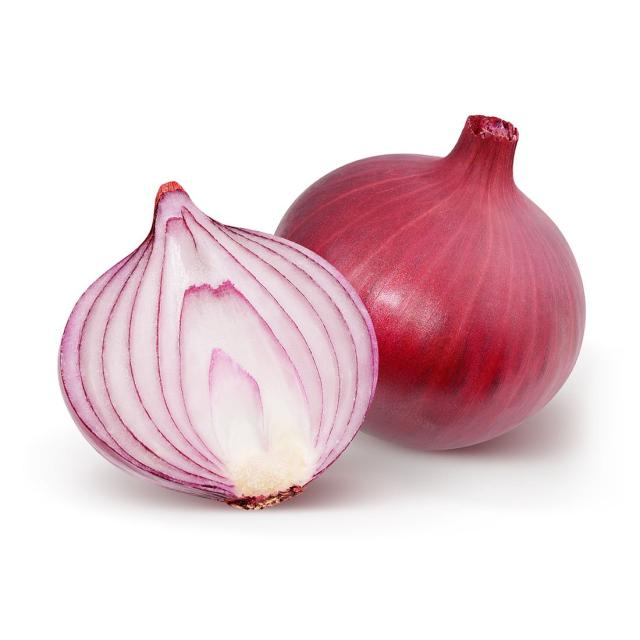onion: (271, 120, 583, 458), (62, 179, 375, 513)
